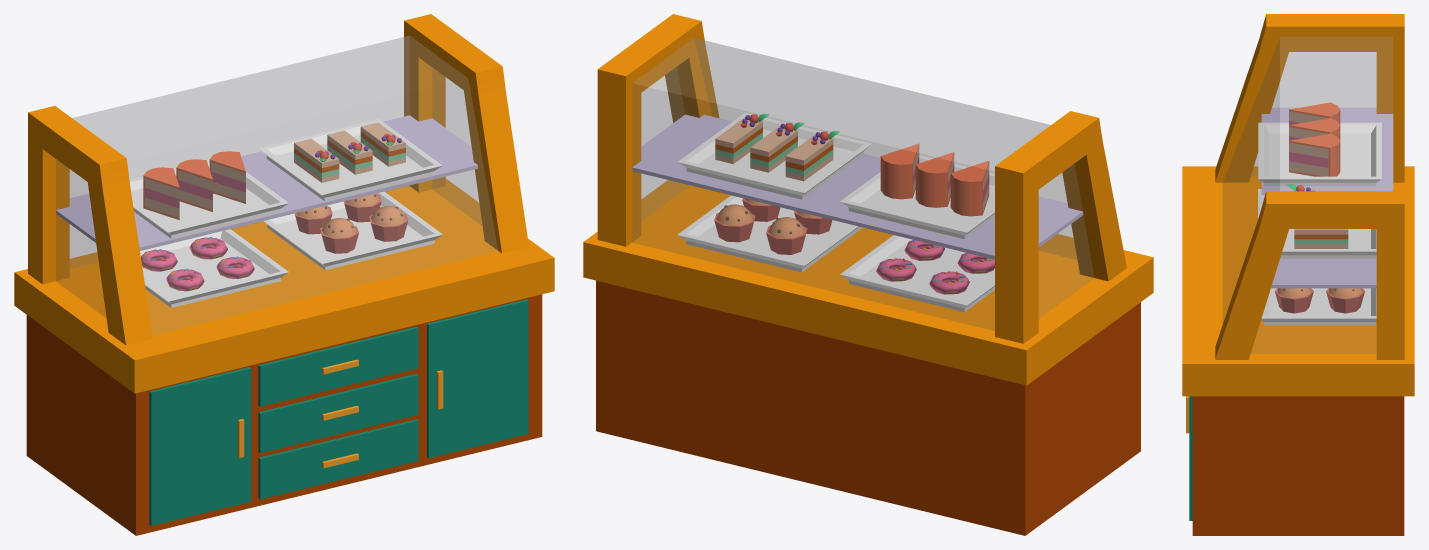
The model's file is Bakery_lv4.fbx.
3 views of the same model, side by side, from view 1: azimuth 30°, elevation 25°; view 2: azimuth 150°, elevation 25°; view 3: azimuth 270°, elevation 25° (orthographic). The views are drawn at different scales.
Parts seen in each view (by area): view 1: Bakery_lv4; view 2: Bakery_lv4; view 3: Bakery_lv4.
Boxes of the visible parts, box(x1,y1,x2,y2) form: Bakery_lv4: box(14, 14, 554, 535); Bakery_lv4: box(583, 14, 1153, 535); Bakery_lv4: box(1182, 14, 1414, 535).
Bounding box in the file's own units: 310 × 242 × 154.
